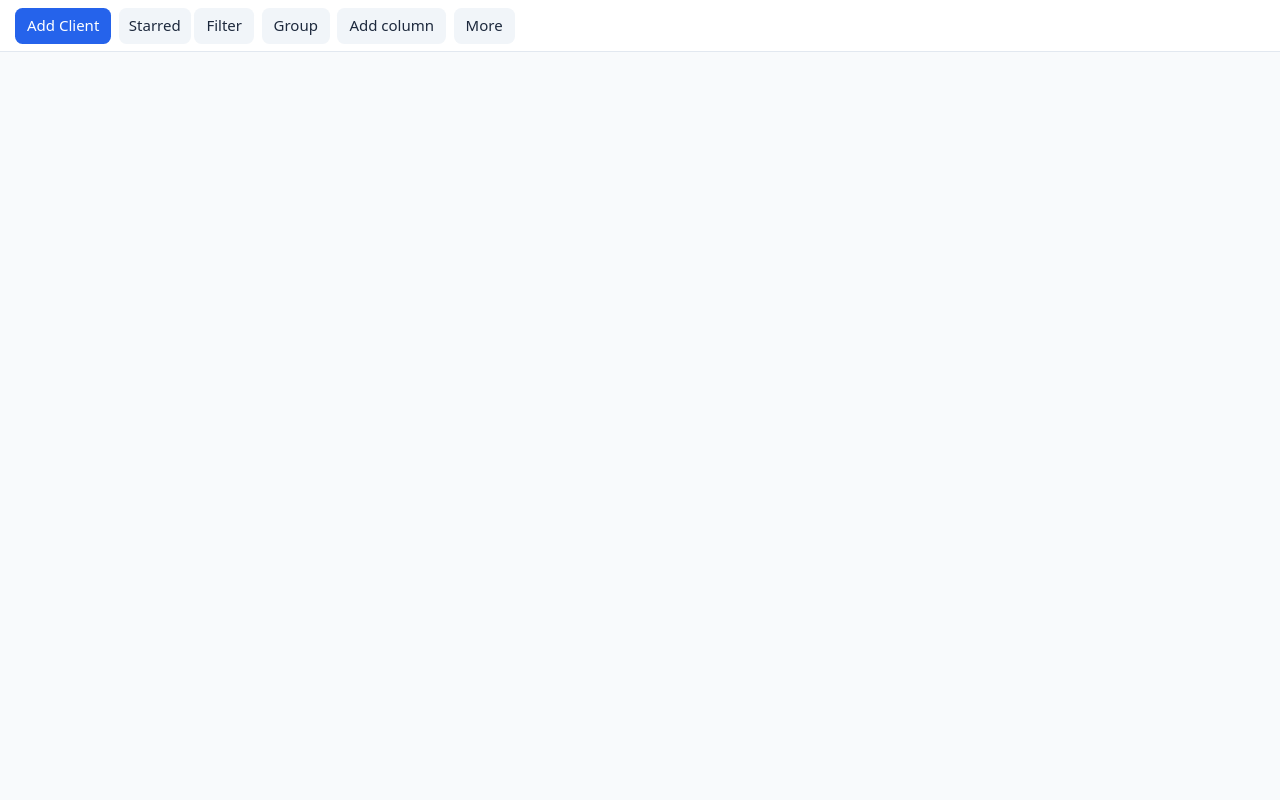
Scenario: GridToolbar › shows Columns button with hidden count when columns are hidden
Expected: the text "1 hidden" is not shown
Click the button "More" at (484, 26), box [454, 8, 515, 44]
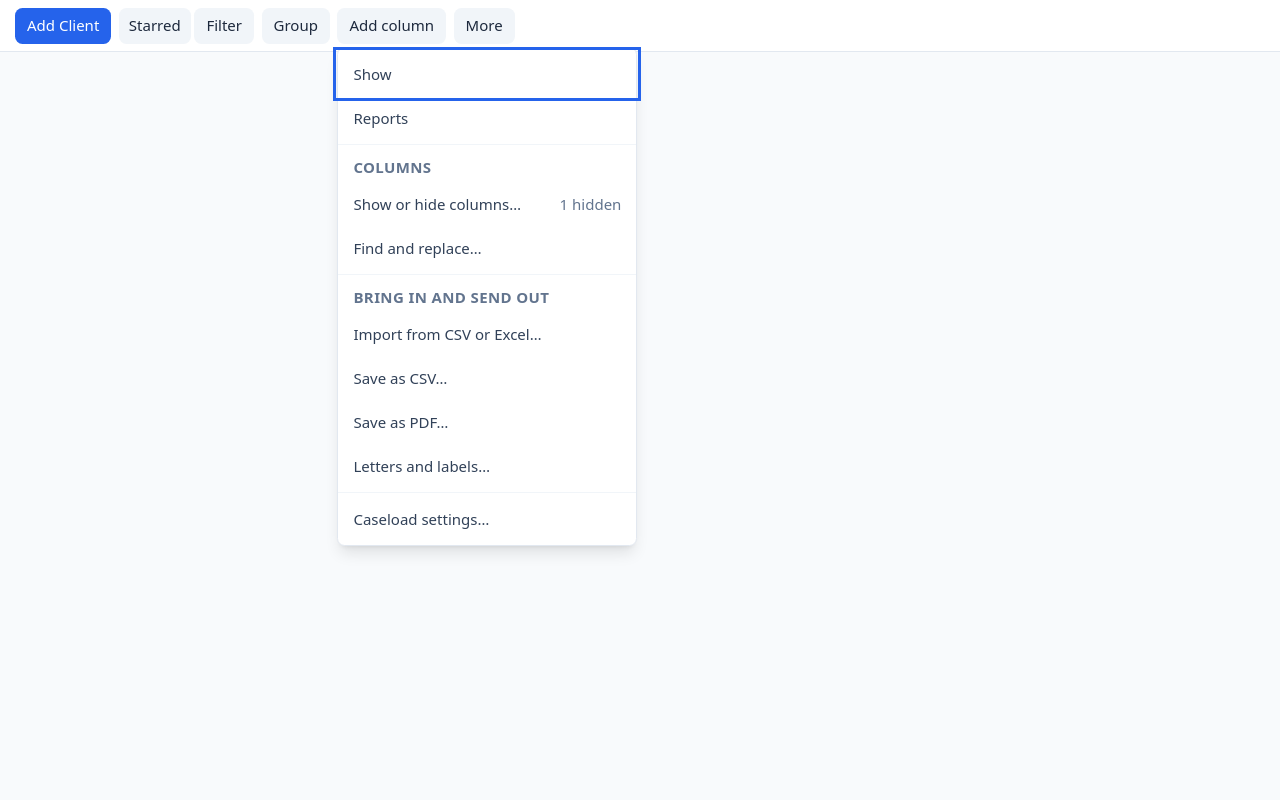
Now the text "1 hidden" is shown, box [560, 193, 621, 216]
Click the text "Show or hide columns…" at (437, 204), box [353, 194, 521, 214]
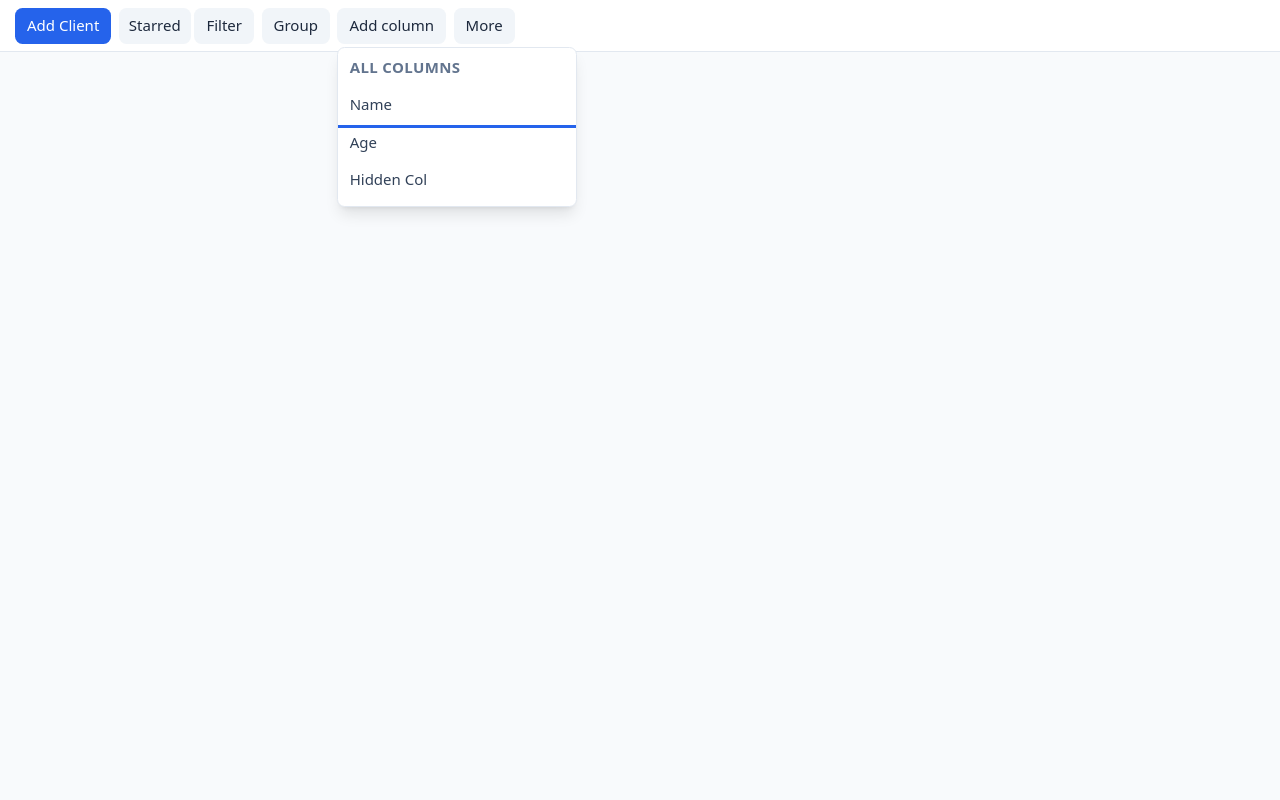
Now the text "Hidden Col" is shown, box [350, 168, 427, 191]
